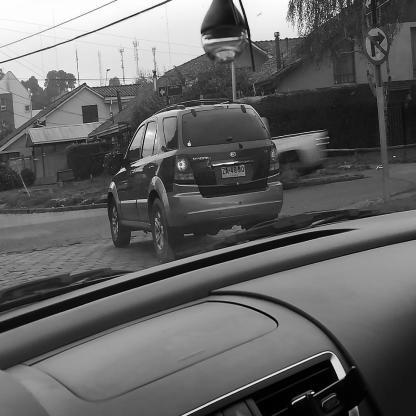Patente: (220, 161, 248, 180)
